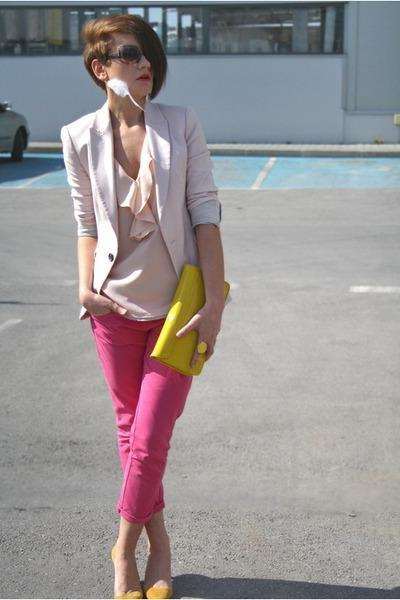jacket: (62, 97, 222, 322)
short sleeve shirt: (92, 125, 179, 318)
trousers: (88, 296, 212, 527)
